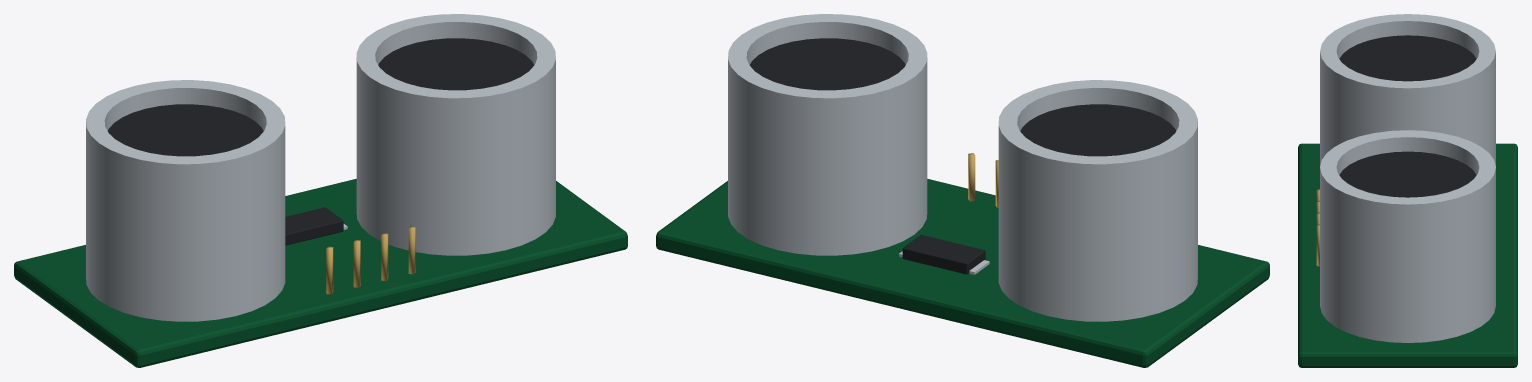
File: ultrasonic_hc_sr04.glb
The picture shows the model from 3 angles, left to right: view 1: azimuth 30°, elevation 25°; view 2: azimuth 150°, elevation 25°; view 3: azimuth 270°, elevation 25°; orthographic projection. The views are drawn at different scales.
Parts seen in each view (by area): view 1: part_ultrasonic_hc_sr04__steel, part_ultrasonic_hc_sr04__pcb, part_ultrasonic_hc_sr04__black_polymer, part_ultrasonic_hc_sr04__brass; view 2: part_ultrasonic_hc_sr04__steel, part_ultrasonic_hc_sr04__pcb, part_ultrasonic_hc_sr04__black_polymer, part_ultrasonic_hc_sr04__brass; view 3: part_ultrasonic_hc_sr04__steel, part_ultrasonic_hc_sr04__pcb, part_ultrasonic_hc_sr04__black_polymer, part_ultrasonic_hc_sr04__brass.
Part boxes in pixels (box(x1,y1,x2,y2)): part_ultrasonic_hc_sr04__steel: box(86, 14, 555, 321); part_ultrasonic_hc_sr04__pcb: box(14, 178, 627, 367); part_ultrasonic_hc_sr04__black_polymer: box(108, 38, 534, 245); part_ultrasonic_hc_sr04__brass: box(326, 226, 415, 294); part_ultrasonic_hc_sr04__steel: box(728, 14, 1197, 321); part_ultrasonic_hc_sr04__pcb: box(656, 179, 1269, 367); part_ultrasonic_hc_sr04__black_polymer: box(749, 38, 1175, 274); part_ultrasonic_hc_sr04__brass: box(968, 153, 998, 207); part_ultrasonic_hc_sr04__steel: box(1320, 14, 1495, 342); part_ultrasonic_hc_sr04__pcb: box(1298, 143, 1517, 367); part_ultrasonic_hc_sr04__black_polymer: box(1339, 35, 1476, 197); part_ultrasonic_hc_sr04__brass: box(1316, 189, 1319, 266).
Size of the model in its own units: 0.0455 by 0.0155 by 0.02.
